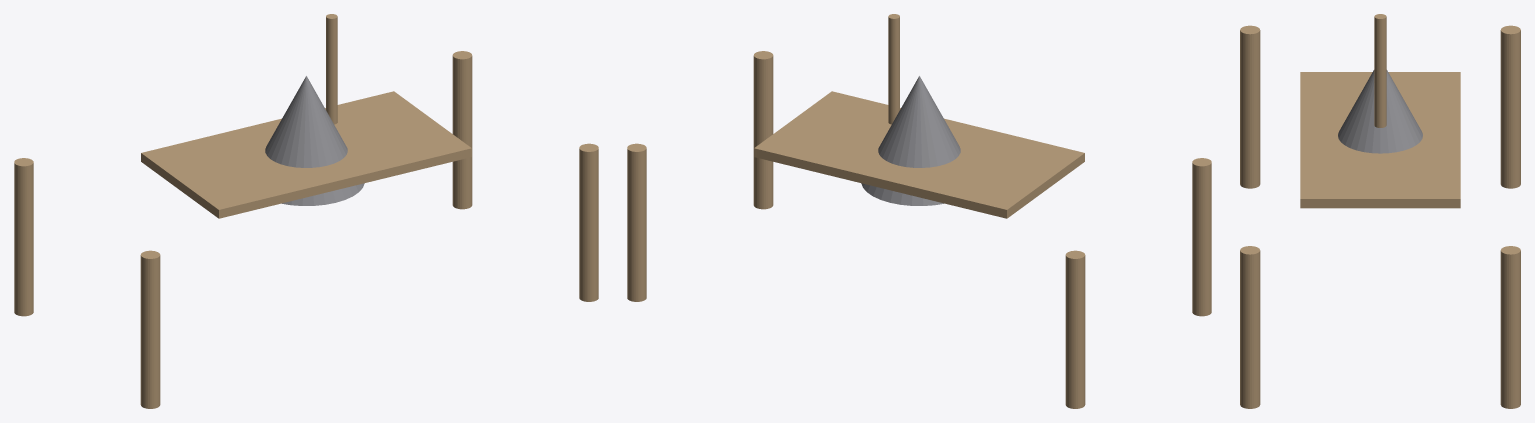
The model's file is stir_vortex.glb.
3 renders of one model, left to right at view 1: azimuth 30°, elevation 25°; view 2: azimuth 150°, elevation 25°; view 3: azimuth 270°, elevation 25°, orthographic. The views are drawn at different scales.
Visible parts, largest first — view 1: bench_top, crucible, bench_leg_-1.3_-0.65, bench_leg_-1.3_0.65, bench_leg_1.3_-0.65, bench_leg_1.3_0.65, stir_vortex_spoon; view 2: bench_top, crucible, bench_leg_-1.3_0.65, bench_leg_-1.3_-0.65, bench_leg_1.3_0.65, bench_leg_1.3_-0.65, stir_vortex_spoon; view 3: bench_top, crucible, bench_leg_-1.3_0.65, bench_leg_-1.3_-0.65, bench_leg_1.3_0.65, bench_leg_1.3_-0.65, stir_vortex_spoon.
Boxes of the visible parts, left/top/right/bottom form: bench_top: left=141, top=91, right=471, bottom=218; crucible: left=265, top=76, right=364, bottom=205; bench_leg_-1.3_-0.65: left=140, top=250, right=160, bottom=408; bench_leg_-1.3_0.65: left=14, top=158, right=33, bottom=316; bench_leg_1.3_-0.65: left=579, top=143, right=598, bottom=301; bench_leg_1.3_0.65: left=452, top=51, right=472, bottom=209; stir_vortex_spoon: left=326, top=14, right=337, bottom=124; bench_top: left=754, top=91, right=1084, bottom=218; crucible: left=861, top=76, right=960, bottom=205; bench_leg_-1.3_0.65: left=1065, top=250, right=1085, bottom=408; bench_leg_-1.3_-0.65: left=1192, top=158, right=1211, bottom=316; bench_leg_1.3_0.65: left=627, top=143, right=646, bottom=301; bench_leg_1.3_-0.65: left=753, top=51, right=773, bottom=209; stir_vortex_spoon: left=888, top=14, right=899, bottom=124; bench_top: left=1300, top=72, right=1460, bottom=208; crucible: left=1338, top=70, right=1422, bottom=153; bench_leg_-1.3_0.65: left=1500, top=25, right=1520, bottom=188; bench_leg_-1.3_-0.65: left=1240, top=25, right=1260, bottom=188; bench_leg_1.3_0.65: left=1500, top=246, right=1520, bottom=408; bench_leg_1.3_-0.65: left=1240, top=246, right=1260, bottom=408; stir_vortex_spoon: left=1374, top=14, right=1386, bottom=127.
Bounding box in the file's own units: 2.7 × 1.6 × 1.4.
